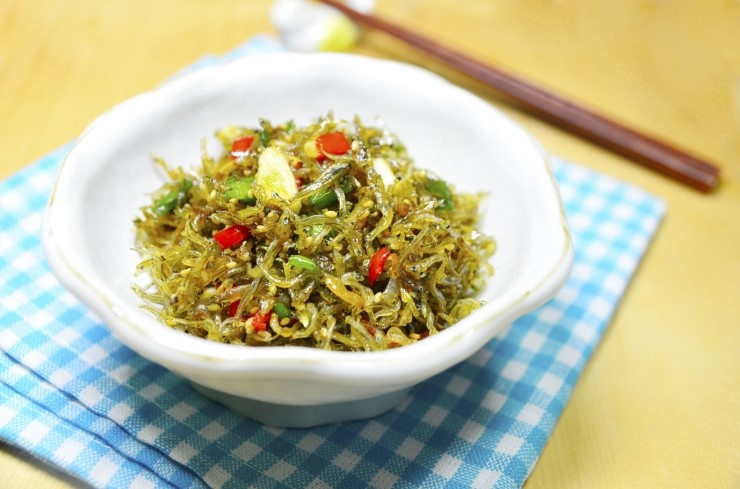myeolchibokk-eum: (131, 112, 500, 354)
